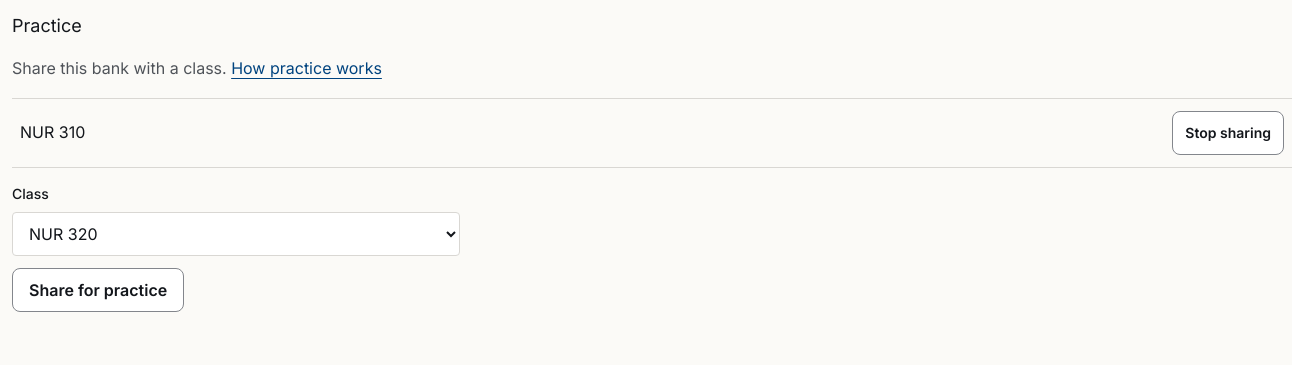
it: PracticeSection › puts focus on the Practice heading after a confirmed Stop sharing (#288)
The image size is (1292, 365).
Click the button with aria-label "Stop sharing with NUR 310": (1228,133) top-left (1172, 111), bottom-right (1284, 155)
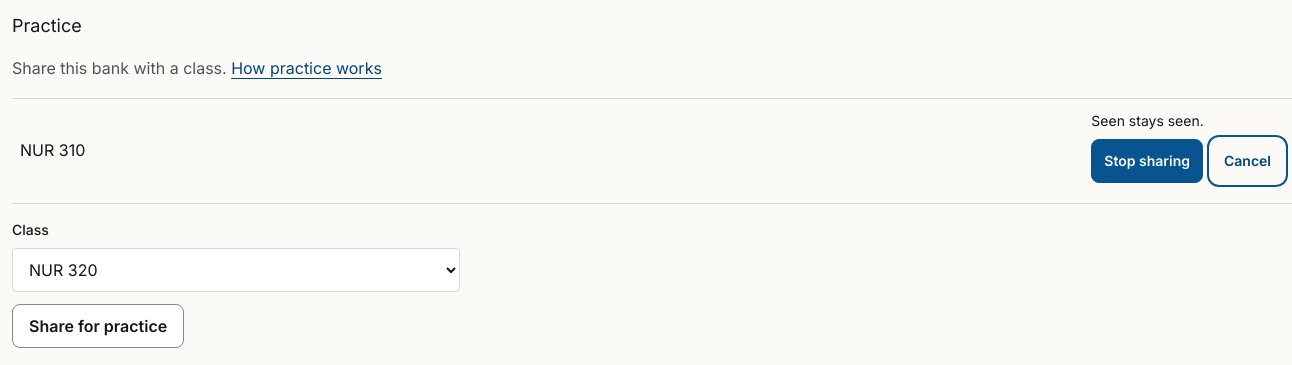
Click the button "Stop sharing": (1147,161) top-left (1091, 139), bottom-right (1203, 183)
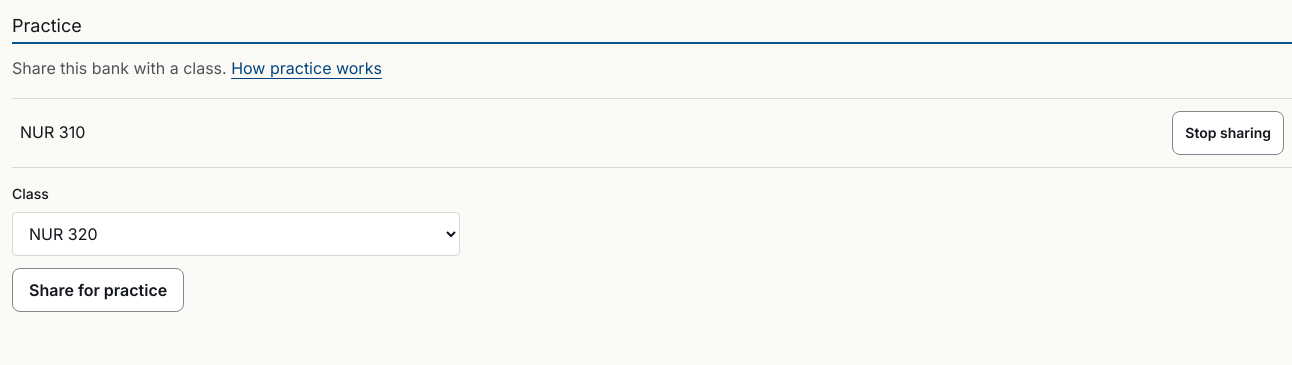
Expected: the button with aria-label "Stop sharing with NUR 310" is shown, top-left (1172, 111), bottom-right (1284, 155)
